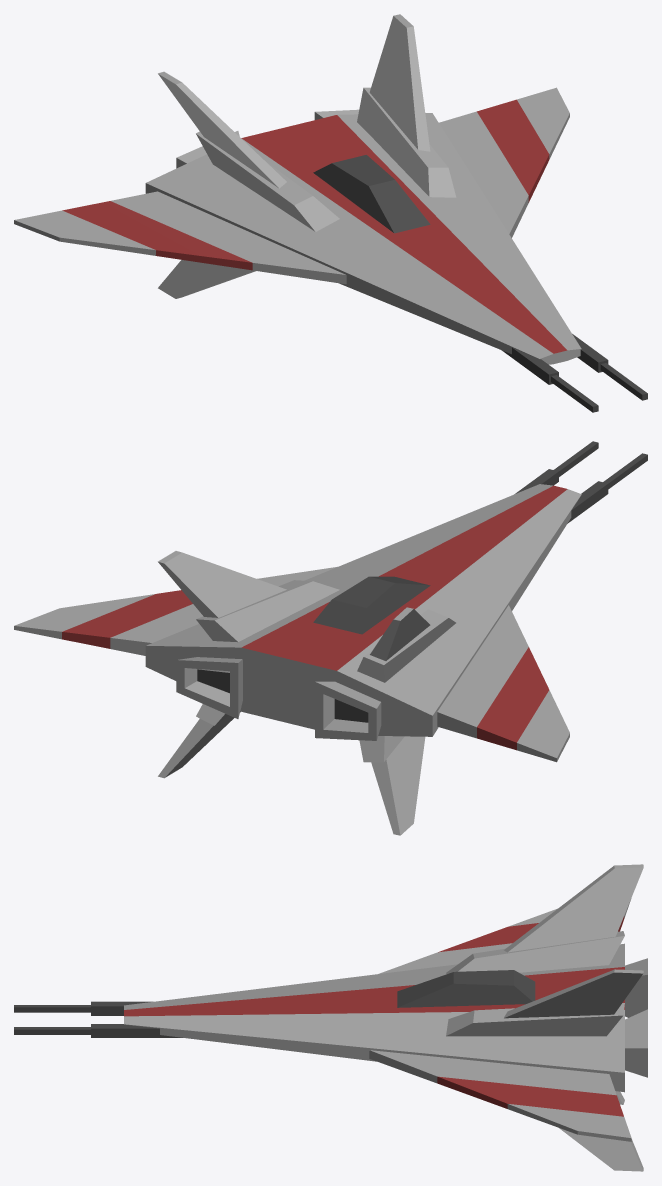
Rendered from spaceship.gltf.
3 renders of one model, top to bottom at view 1: azimuth 30°, elevation 25°; view 2: azimuth 150°, elevation 25°; view 3: azimuth 270°, elevation 25°, orthographic. The views are drawn at different scales.
Parts seen in each view (by area): view 1: Lo_poly_Spaceship_01_by_Liz_Reddington; view 2: Lo_poly_Spaceship_01_by_Liz_Reddington; view 3: Lo_poly_Spaceship_01_by_Liz_Reddington.
Boxes of the visible parts, box(x1,y1,x2,y2) form: Lo_poly_Spaceship_01_by_Liz_Reddington: box(14, 14, 647, 412); Lo_poly_Spaceship_01_by_Liz_Reddington: box(14, 441, 647, 835); Lo_poly_Spaceship_01_by_Liz_Reddington: box(14, 864, 647, 1171).
Bounding box in the file's own units: 677 × 256 × 743.
